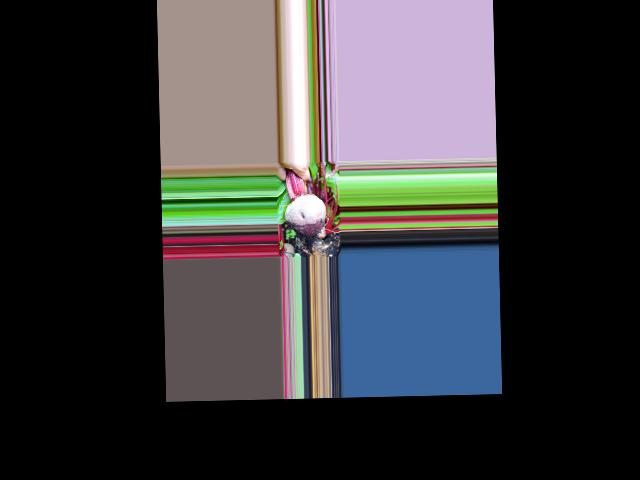beet: (284, 167, 327, 257)
